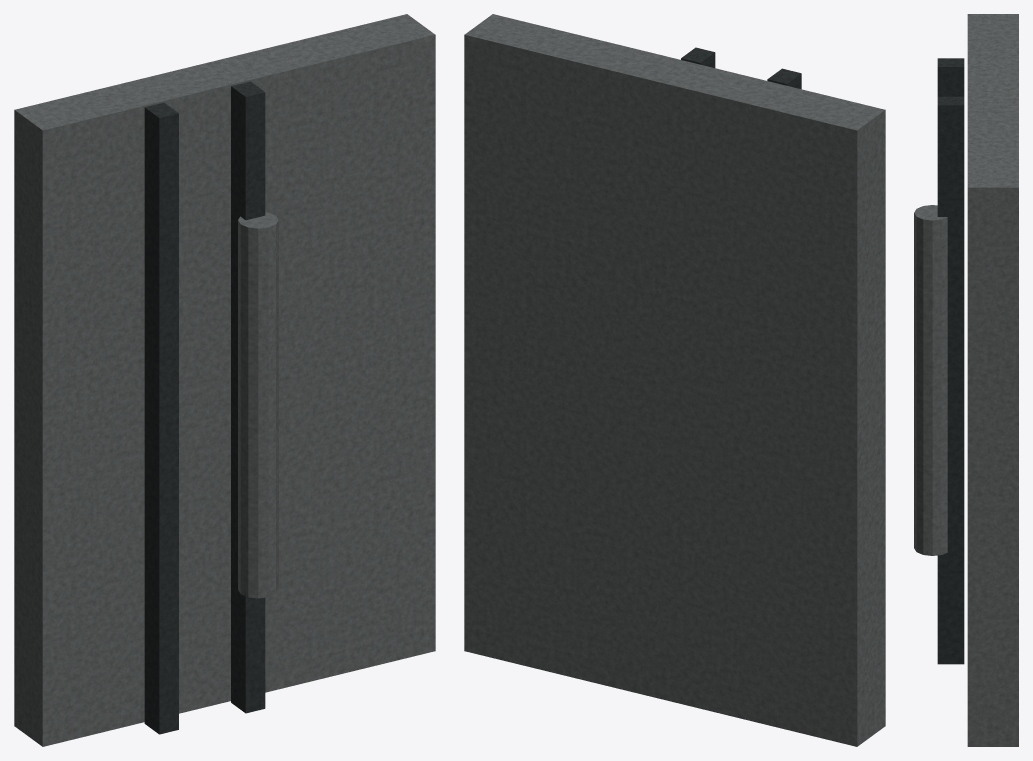
The model's file is METL22CC_lod2.glb.
The picture shows the model from 3 angles, left to right: view 1: azimuth 30°, elevation 25°; view 2: azimuth 150°, elevation 25°; view 3: azimuth 270°, elevation 25°; orthographic projection. The views are drawn at different scales.
Parts seen in each view (by area): view 1: METL22CC_LOD2; view 2: METL22CC_LOD2; view 3: METL22CC_LOD2.
Part boxes in pixels (<box>): METL22CC_LOD2: <box>14,14,435,746</box>; METL22CC_LOD2: <box>464,14,885,746</box>; METL22CC_LOD2: <box>914,14,1018,746</box>.
Bounding box in the file's own units: 2 × 3 × 0.51.
Materials: 2 (2 with a texture image).
